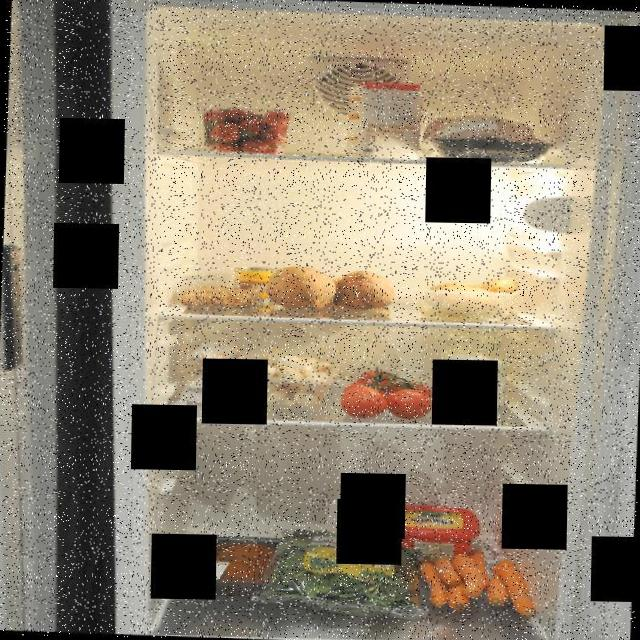Carne pollo: (419, 106, 556, 170)
Carne vacuno: (173, 532, 307, 600)
Champiñones: (244, 348, 334, 402)
Gambas/Langostinos: (177, 282, 261, 312)
Mantequilla: (383, 501, 482, 570)
Patata: (417, 274, 523, 316)
Tomate: (331, 360, 441, 424)
Zanahoria: (408, 542, 546, 620)
